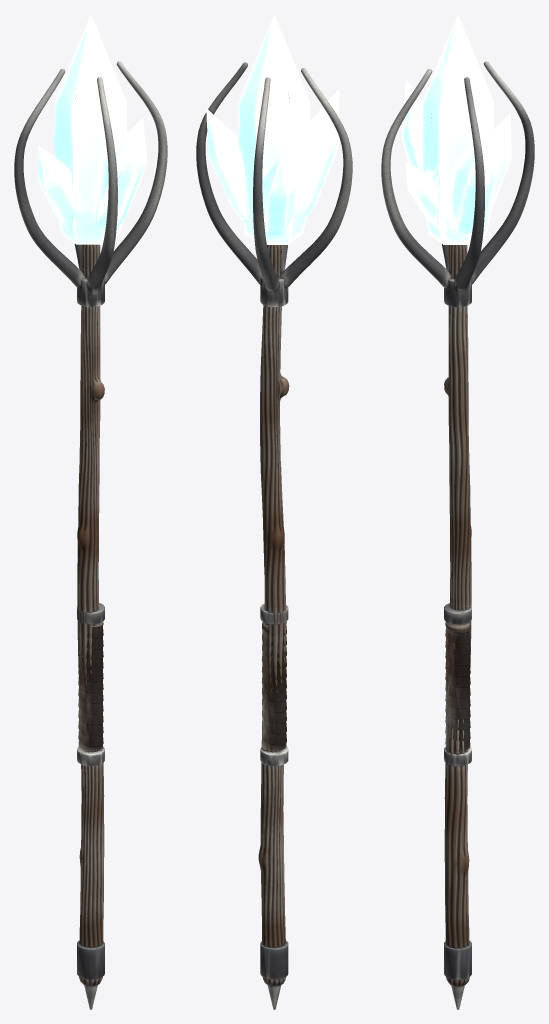
File: weapon_frost_staff.gltf
3 views of the same model, side by side, from view 1: azimuth 90°, elevation 25°; view 2: azimuth 150°, elevation 25°; view 3: azimuth 270°, elevation 25° (orthographic).
Parts seen in each view (by area): view 1: weapon_frost_staff; view 2: weapon_frost_staff; view 3: weapon_frost_staff.
Part boxes in pixels (x1,y1,x2,y2): weapon_frost_staff: [14, 14, 167, 1009]; weapon_frost_staff: [196, 14, 352, 1009]; weapon_frost_staff: [381, 14, 534, 1009].
Size of the model in its own units: 0.3341 by 2.39 by 0.3341.
1 material, 1 textured.
